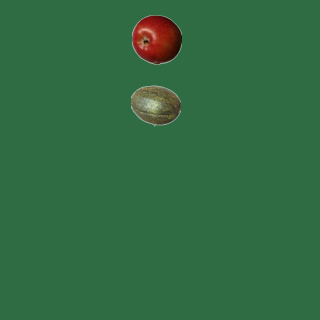Apple Braeburn: (131, 14, 181, 64)
Melon Piel de Sapo: (130, 80, 180, 130)
